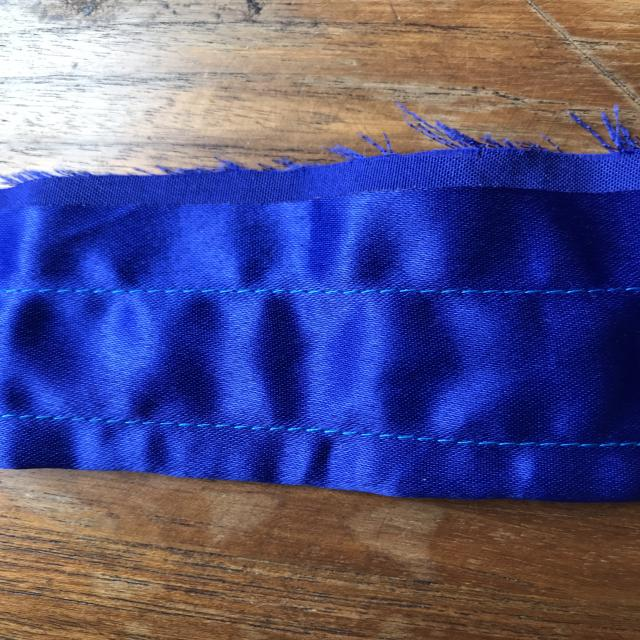good: (290, 415, 575, 459), (252, 276, 552, 306)
